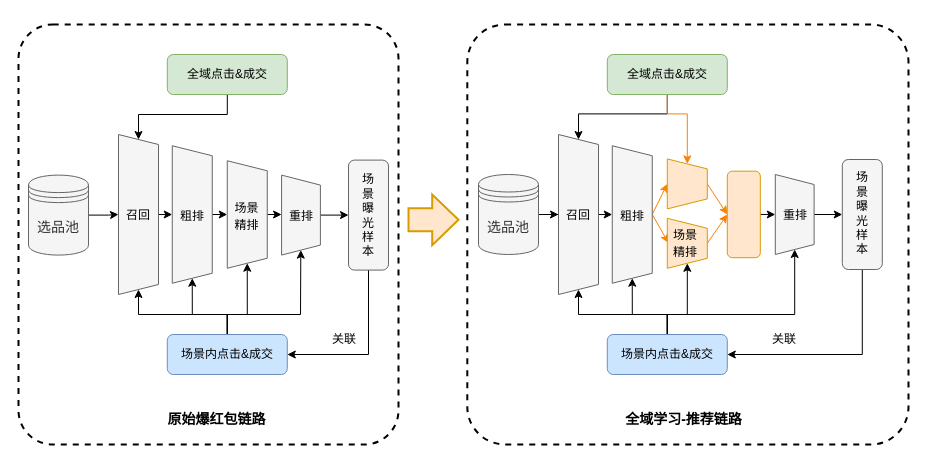
Image size: 926x463. Some labels were removed from this diagram. The centre of each missing label's shape, as x and y in pixels:
"MMoE" goes at pixel 686 183.
"个性动态参数" goes at pixel 743 214.
